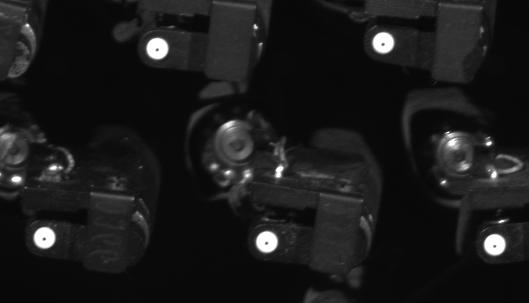fiber: (247, 224, 285, 259), (477, 229, 515, 260), (365, 27, 401, 58), (140, 33, 173, 64), (29, 221, 59, 255)
